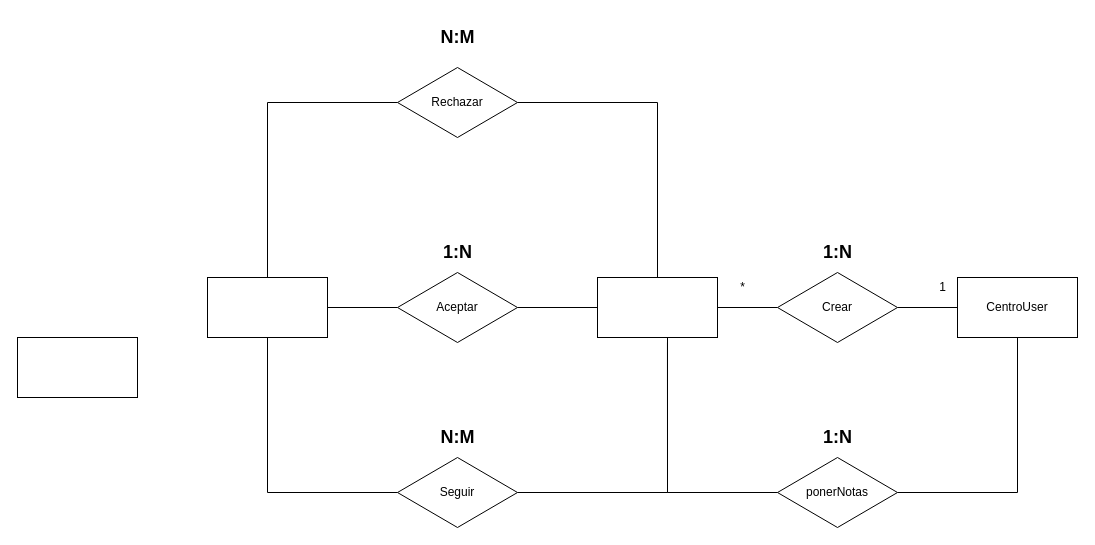
The diagram is 1095 pixels wide and 545 high, and some of its shapes have lost their labels. The centre of each missing label's shape, as x and y in pixels:
AlumnoUser: (657,307)
EmpresaUser: (267,307)
Invitado: (77,367)
